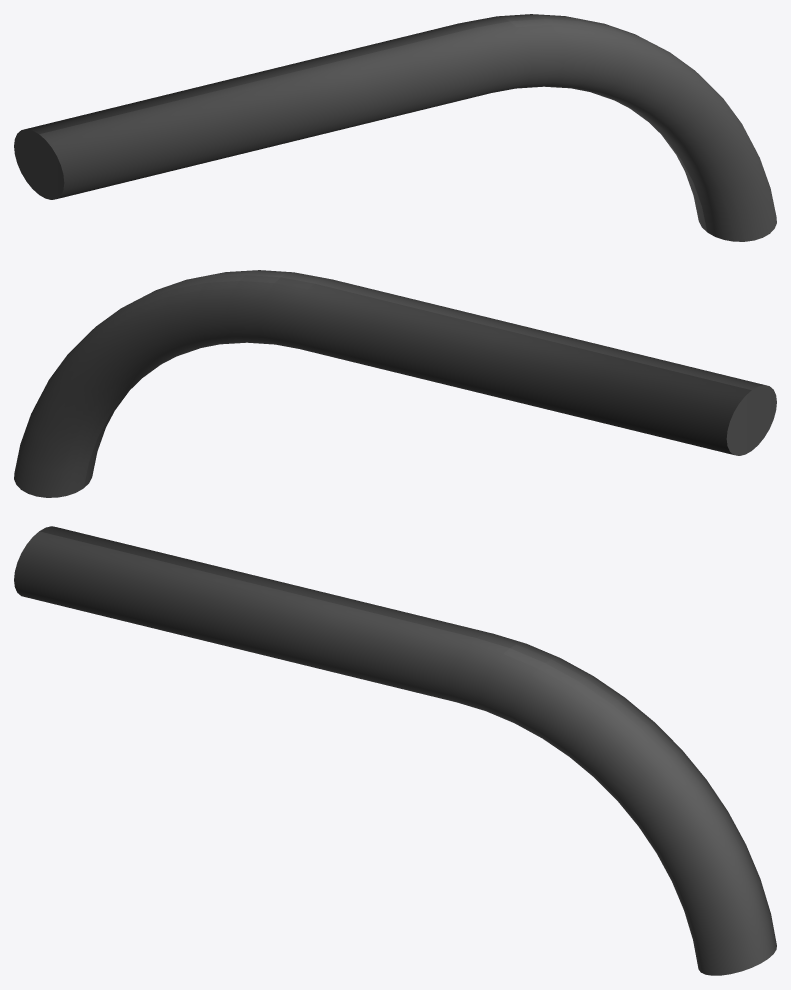
File: original-64.obj
3 renders of one model, top to bottom at view 1: azimuth 30°, elevation 25°; view 2: azimuth 150°, elevation 25°; view 3: azimuth 330°, elevation 25°, orthographic.
Parts seen in each view (by area): view 1: Group50/mesh78/mesh78-geometry#mesh78-geometry; view 2: Group50/mesh78/mesh78-geometry#mesh78-geometry; view 3: Group50/mesh78/mesh78-geometry#mesh78-geometry.
Boxes of the visible parts, x1,y1,x2,y2 form: Group50/mesh78/mesh78-geometry#mesh78-geometry: (14,14,776,241); Group50/mesh78/mesh78-geometry#mesh78-geometry: (14,270,776,497); Group50/mesh78/mesh78-geometry#mesh78-geometry: (14,526,776,975).
Bounding box in the file's own units: 0.1289 × 0.0442 × 0.0154.
Materials: 1 (1 with a texture image).
